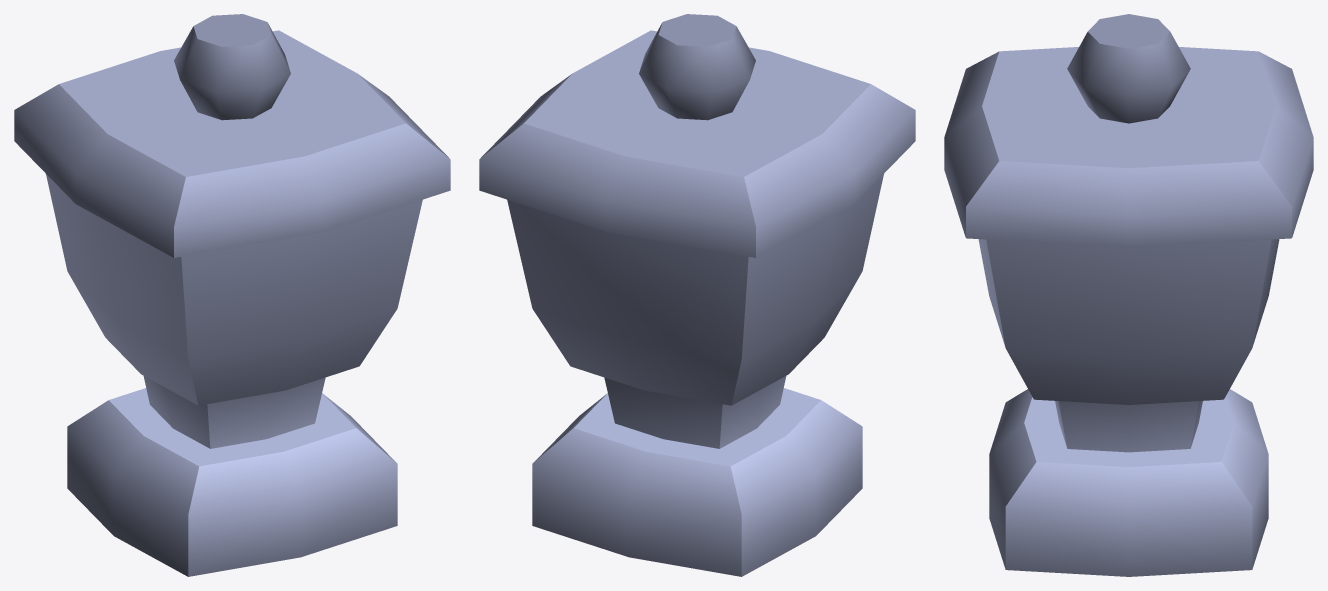
File: urn-square.glb
The picture shows the model from 3 angles, left to right: view 1: azimuth 30°, elevation 25°; view 2: azimuth 150°, elevation 25°; view 3: azimuth 270°, elevation 25°; orthographic projection. The views are drawn at different scales.
Parts seen in each view (by area): view 1: urn-square, lid; view 2: urn-square, lid; view 3: urn-square, lid.
Part boxes in pixels (x1,y1,x2,y2): urn-square: (46,174,422,576); lid: (14,14,450,257); urn-square: (507,174,883,576); lid: (479,14,915,257); urn-square: (978,239,1279,576); lid: (944,14,1313,247).
Bounding box in the file's own units: 5.29 × 7.68 × 5.29.
Materials: 1 (1 with a texture image).
